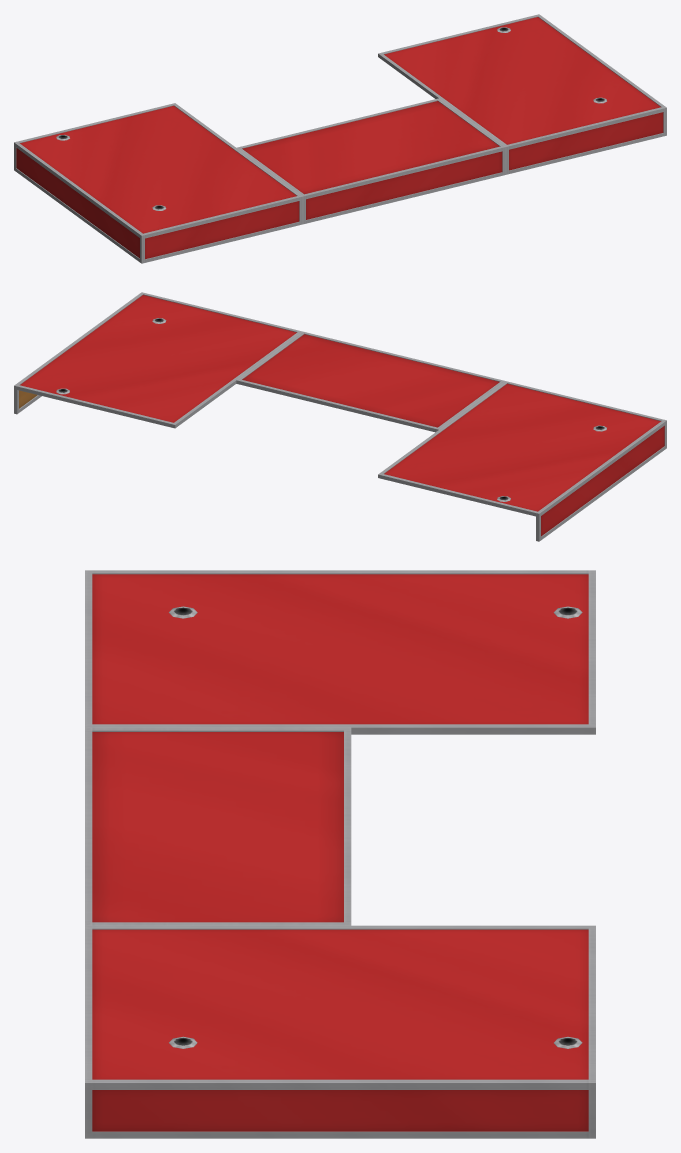
The model's file is jsf_4P_s02_c06_t04_DX.fbx.
3 views of the same model, one above another, from view 1: azimuth 30°, elevation 25°; view 2: azimuth 150°, elevation 25°; view 3: azimuth 270°, elevation 25° (orthographic). The views are drawn at different scales.
Parts seen in each view (by area): view 1: jsf_4P_s02_c06_t04_DX; view 2: jsf_4P_s02_c06_t04_DX; view 3: jsf_4P_s02_c06_t04_DX.
Boxes of the visible parts, x1=… form: jsf_4P_s02_c06_t04_DX: x1=14, y1=14, x2=666, y2=263; jsf_4P_s02_c06_t04_DX: x1=14, y1=292, x2=666, y2=541; jsf_4P_s02_c06_t04_DX: x1=85, y1=570, x2=595, y2=1138.
Size of the model in its own units: 246 by 12.99 by 104.
